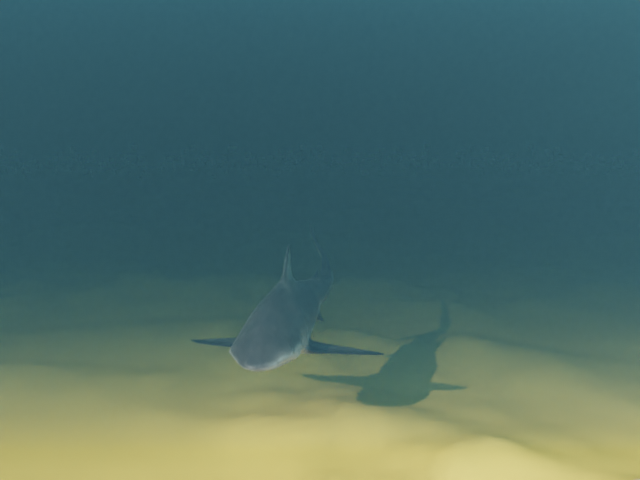Carribean Shark.001: (190, 222, 384, 371)
